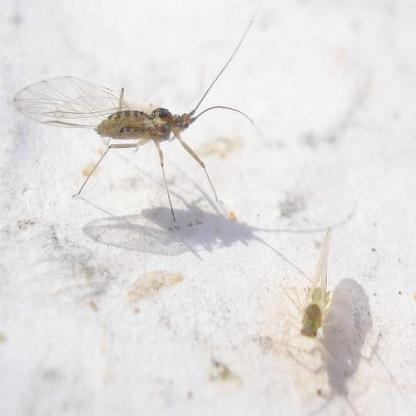aphid: (6, 20, 274, 236), (284, 259, 393, 405)
